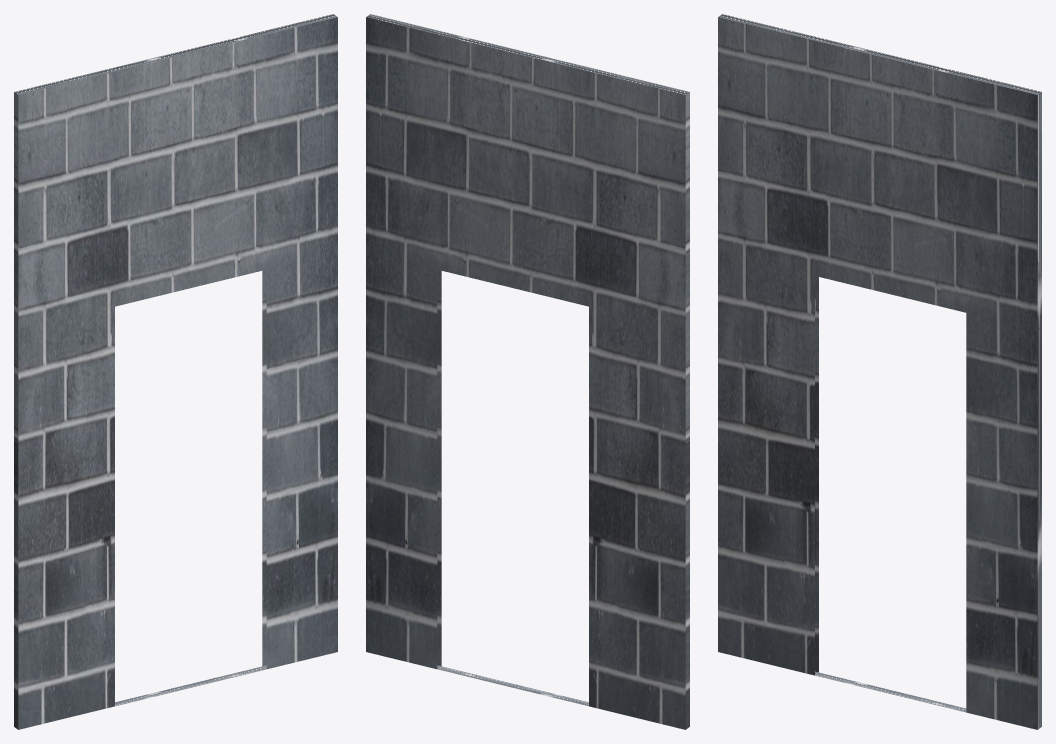
Rendered from ladrillosGPuerta.obj.
The picture shows the model from 3 angles, left to right: view 1: azimuth 30°, elevation 25°; view 2: azimuth 150°, elevation 25°; view 3: azimuth 330°, elevation 25°; orthographic projection.
Parts seen in each view (by area): view 1: pCube8; view 2: pCube8; view 3: pCube8.
Part boxes in pixels (x1,y1,x2,y2): pCube8: (14, 14, 337, 729); pCube8: (366, 14, 689, 729); pCube8: (718, 14, 1041, 729).
Size of the model in its own units: 5.4 by 10.26 by 0.1248.
Materials: 1 (1 with a texture image).
